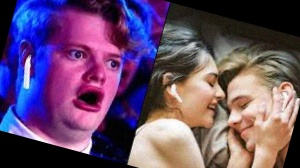earphone: (11, 40, 42, 91), (273, 80, 296, 114), (160, 72, 184, 100)
